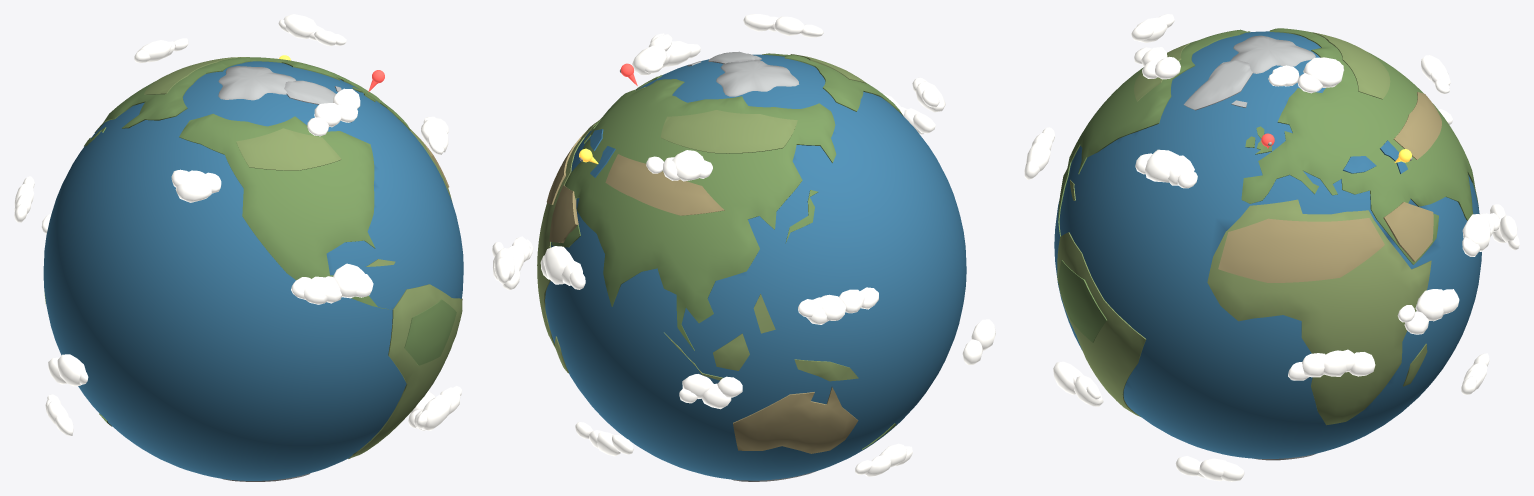
File: earth.glb
3 views of the same model, side by side, from view 1: azimuth 30°, elevation 25°; view 2: azimuth 150°, elevation 25°; view 3: azimuth 270°, elevation 25° (orthographic).
Parts seen in each view (by area): view 1: Globe_Ocean, Globe_Land, Globe_Clouds; view 2: Globe_Ocean, Globe_Land, Globe_Clouds; view 3: Globe_Ocean, Globe_Land, Globe_Clouds.
Boxes of the visible parts, x1,y1,x2,y2 form: Globe_Ocean: [43, 61, 463, 480]; Globe_Land: [44, 57, 462, 481]; Globe_Clouds: [14, 14, 462, 435]; Globe_Ocean: [545, 54, 966, 480]; Globe_Land: [537, 51, 902, 481]; Globe_Clouds: [492, 14, 995, 476]; Globe_Ocean: [1054, 31, 1481, 458]; Globe_Land: [1057, 28, 1478, 460]; Globe_Clouds: [1024, 14, 1519, 481].
Size of the model in its own units: 2.36 by 2.15 by 2.31.
